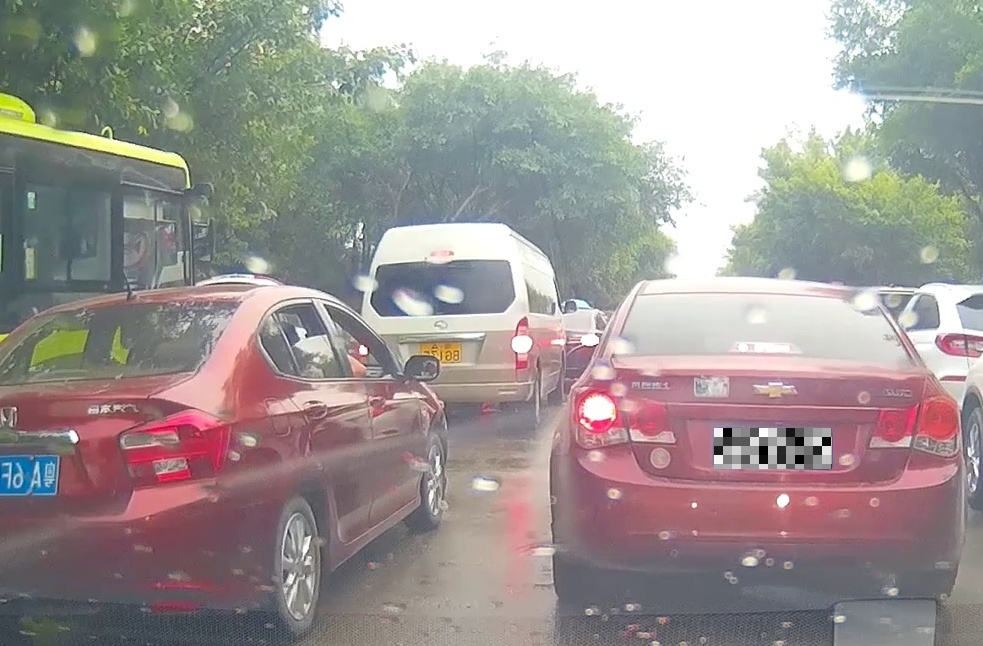L_light: (569, 385, 677, 451)
R_light: (867, 395, 961, 459)
T_light: (725, 341, 804, 355)
day-left: (549, 278, 968, 601)
plate_1: (714, 428, 832, 469)
